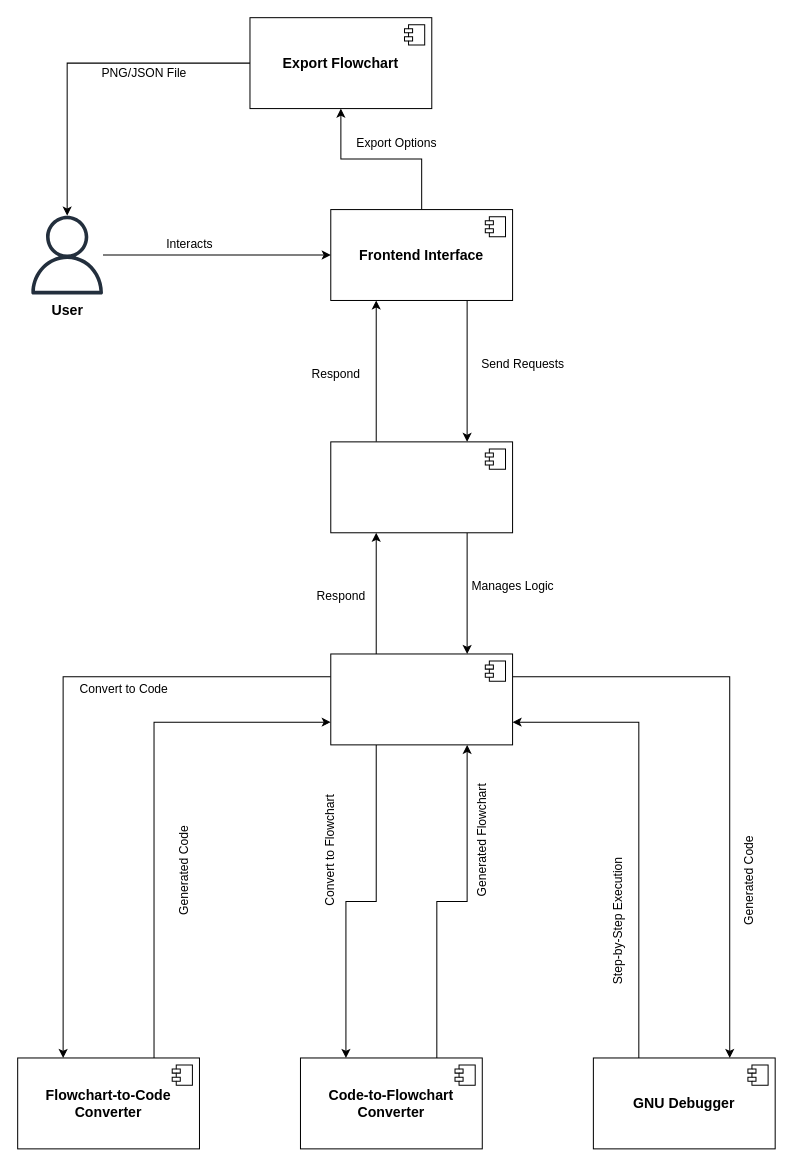
The diagram is 793 pixels wide and 1167 high, and some of its shapes have lost their labels. Here are the shapes that lost their labels. From the top down, the centre of each, then its label:
At point 421,487: "API".
At point 421,699: "Backend (Nodejs)".
